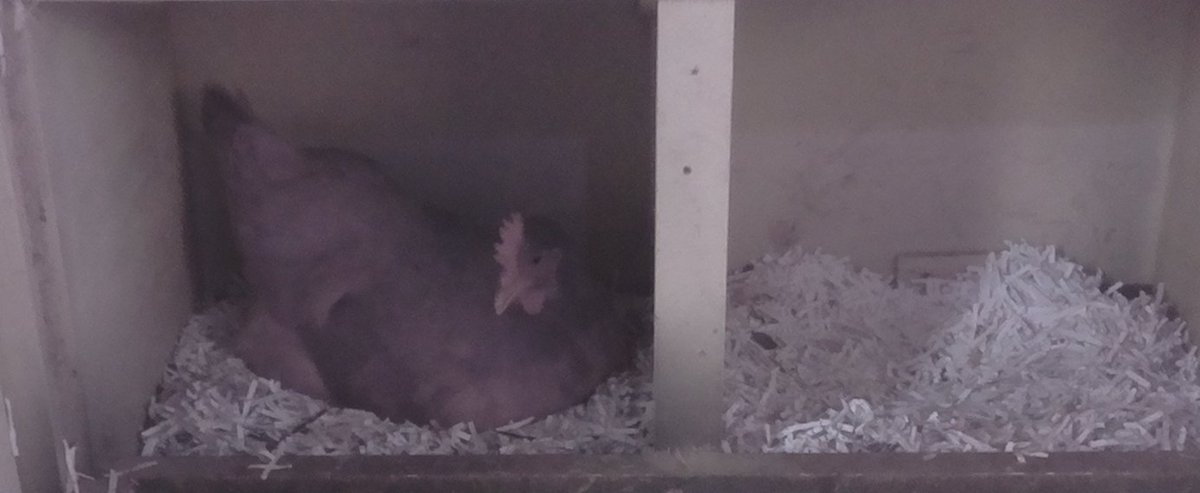hen: (205, 104, 638, 430)
